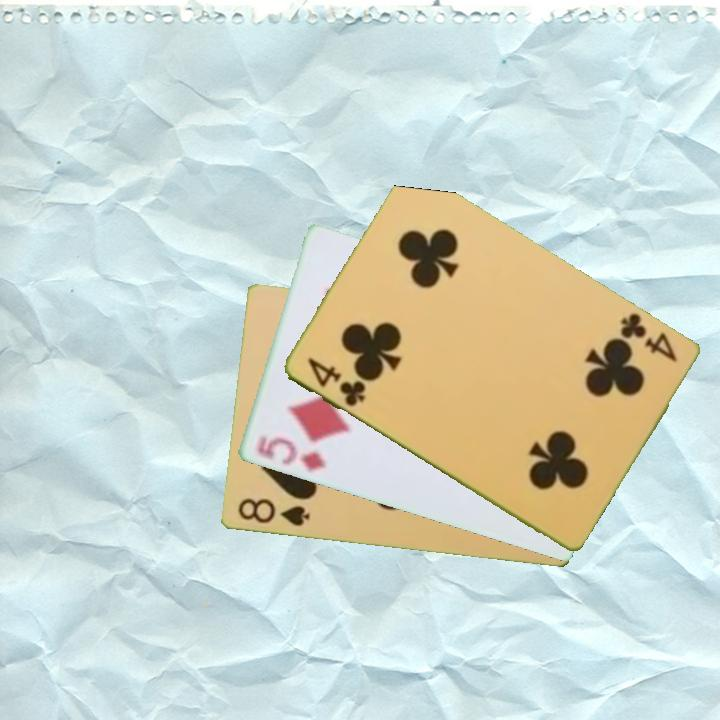4c: (303, 354, 368, 410), (616, 309, 679, 365)
5d: (253, 433, 328, 475)
8s: (234, 495, 313, 530)
